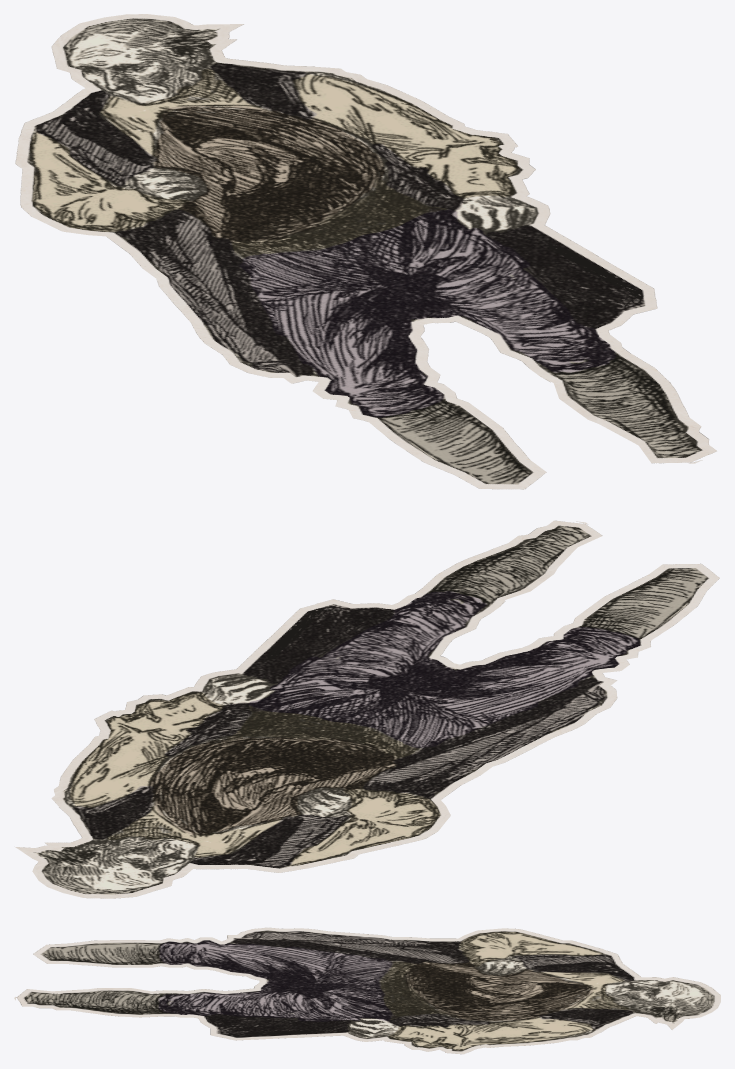
The model's file is oliver.fbx.
3 views of the same model, one above another, from view 1: azimuth 30°, elevation 25°; view 2: azimuth 150°, elevation 25°; view 3: azimuth 270°, elevation 25° (orthographic). The views are drawn at different scales.
Visible parts, largest first — view 1: BézierCurve; view 2: BézierCurve; view 3: BézierCurve.
Boxes of the visible parts, bbox=[...] form: BézierCurve: bbox=[15, 14, 716, 489]; BézierCurve: bbox=[15, 520, 719, 898]; BézierCurve: bbox=[14, 927, 720, 1054].
Size of the model in its own units: 212 by 8.46e-05 by 499.
Materials: 1 (1 with a texture image).
